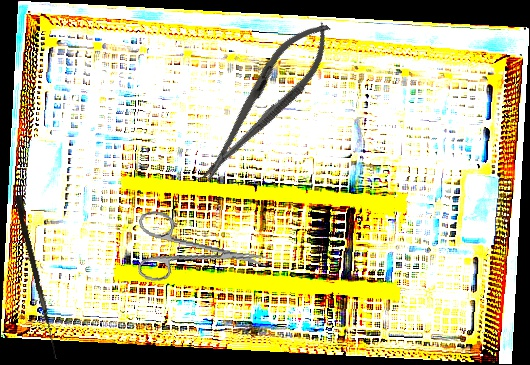Hook Surgical: (11, 194, 65, 360)
Iris Scissors: (130, 209, 273, 298)
Needle Holder: (185, 9, 345, 194)
